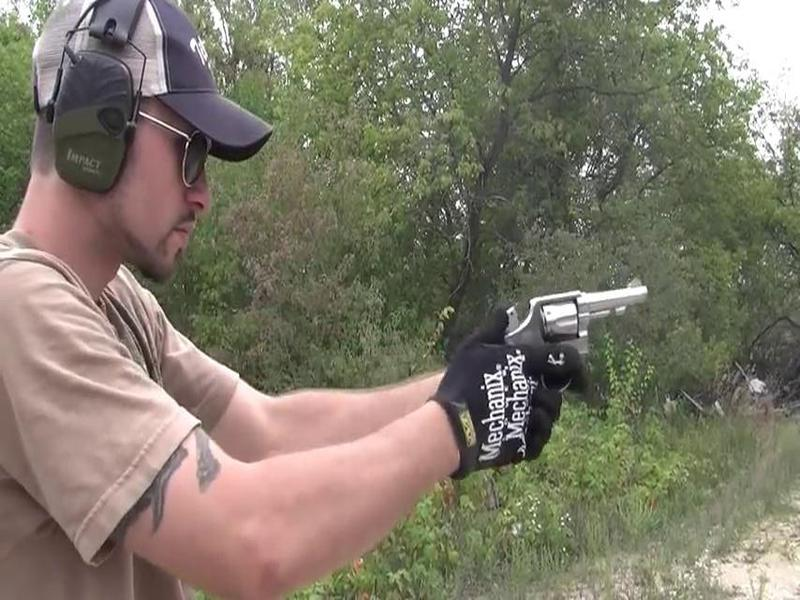Revolver: (488, 264, 671, 394)
